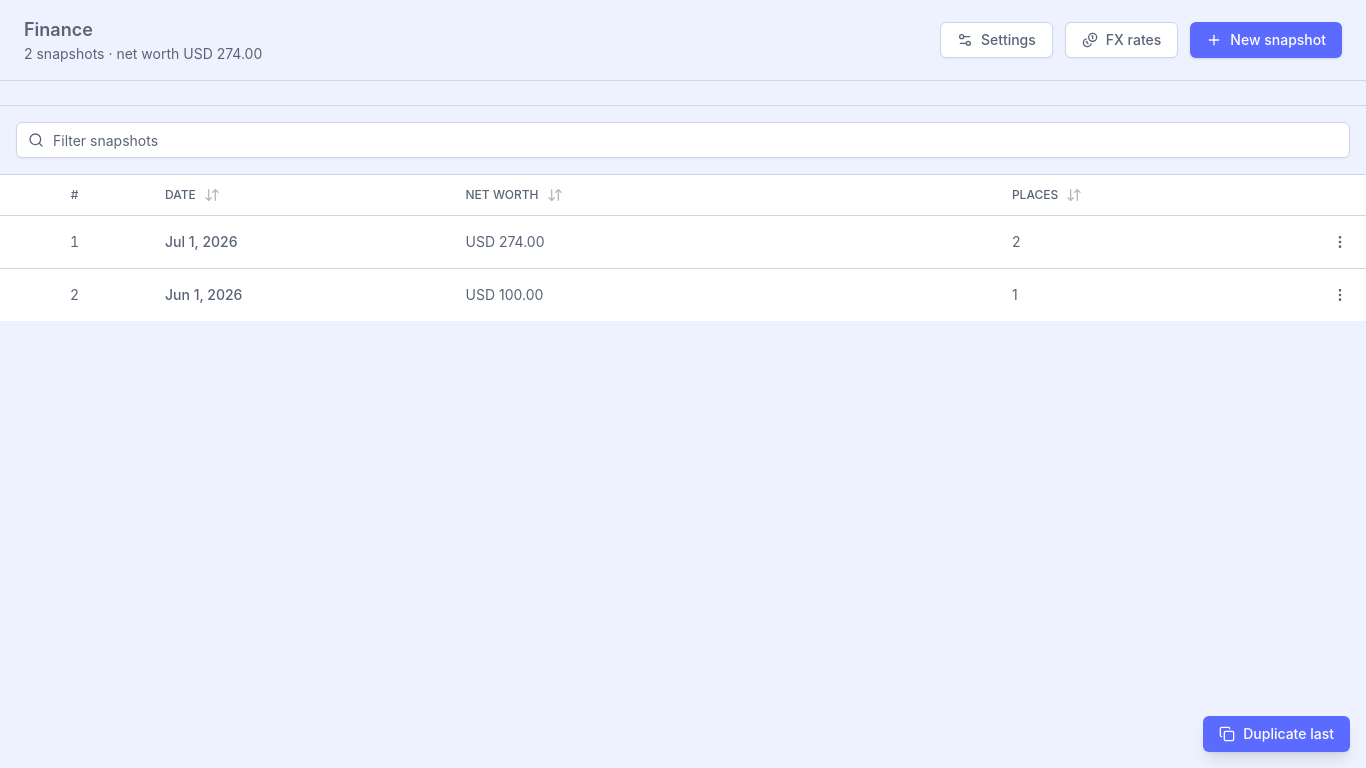
it: FinanceListView › adds, removes, and re-seeds entry rows and defaults date to today
Click the button "New snapshot" at (1266, 40), box [1190,22,1342,58]
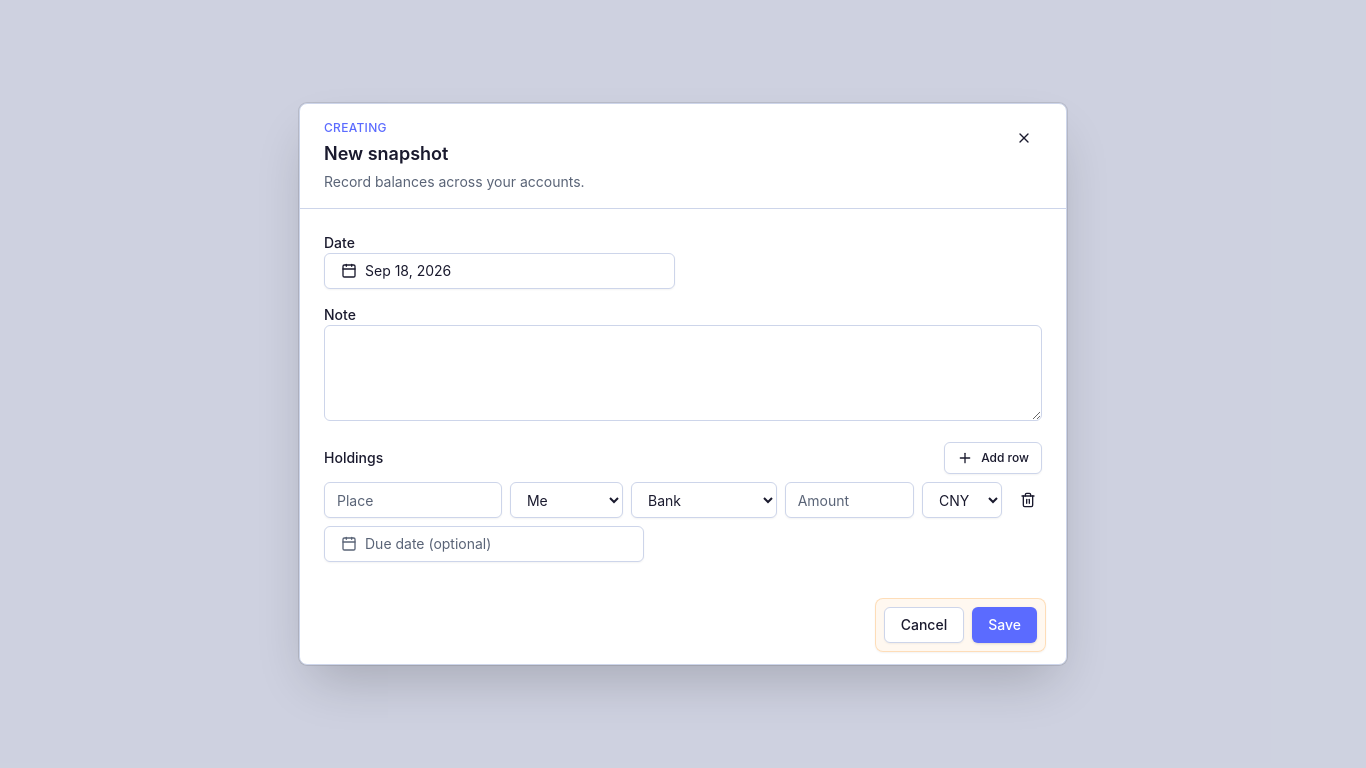
Click the button "Add row" at (993, 458), box [944,442,1042,474]
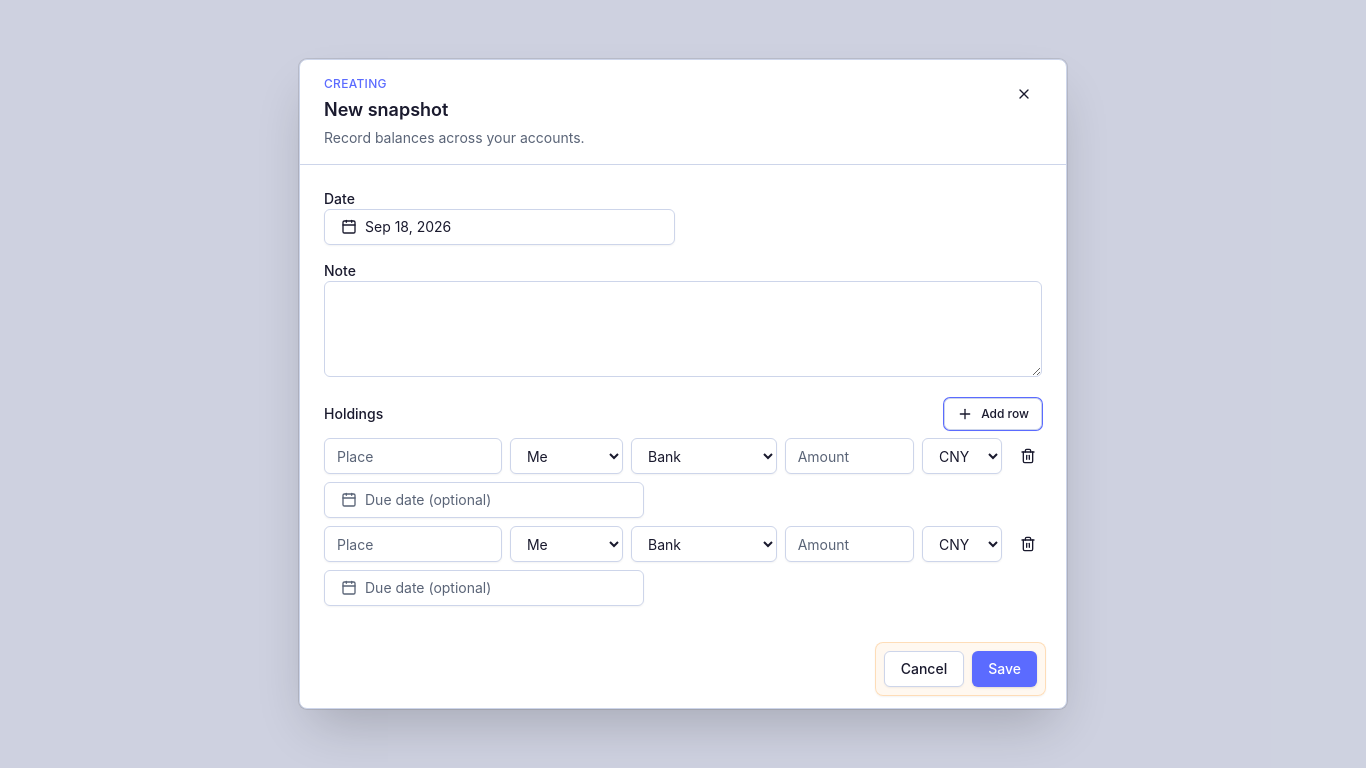
Expected: the field named "Entry 2 place" is shown, [324,526,502,562]
Click the button named "remove entry 2" at (1028, 544), box [1010,526,1046,562]
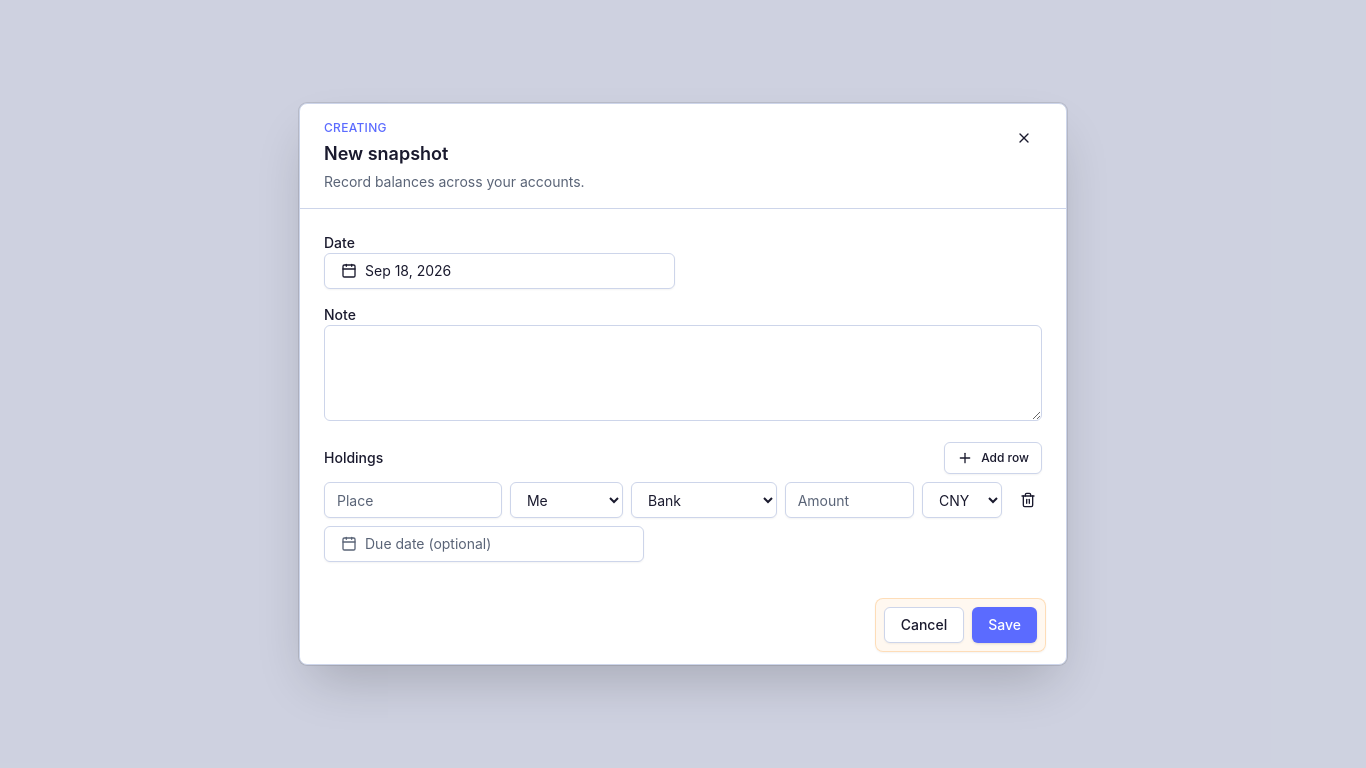
// Removing the last row re-seeds a single blank row.
Click the button named "remove entry 1" at (1028, 500), box [1010,482,1046,518]
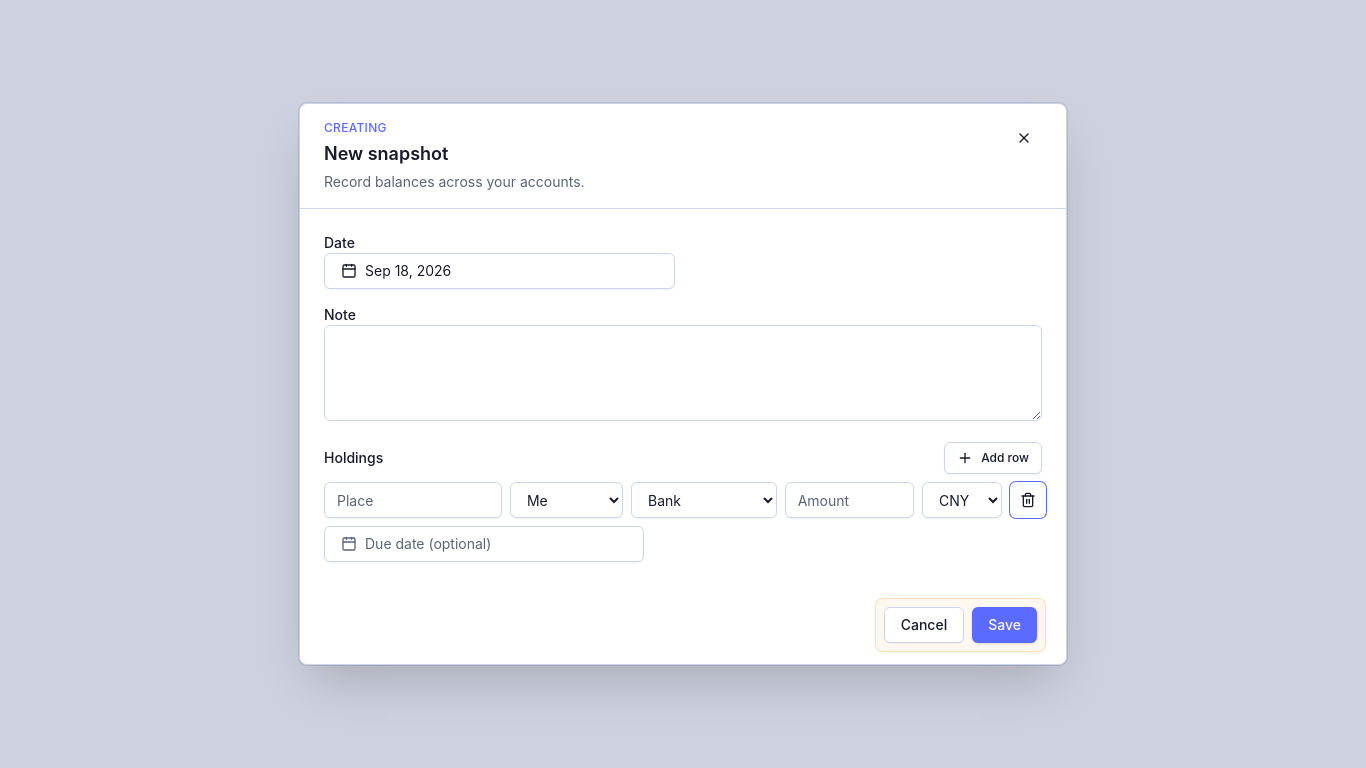
Expected: the field named "Entry 1 place" is shown, [324,482,502,518]
Click the button "Cancel" at (924, 625), box [884,607,964,643]
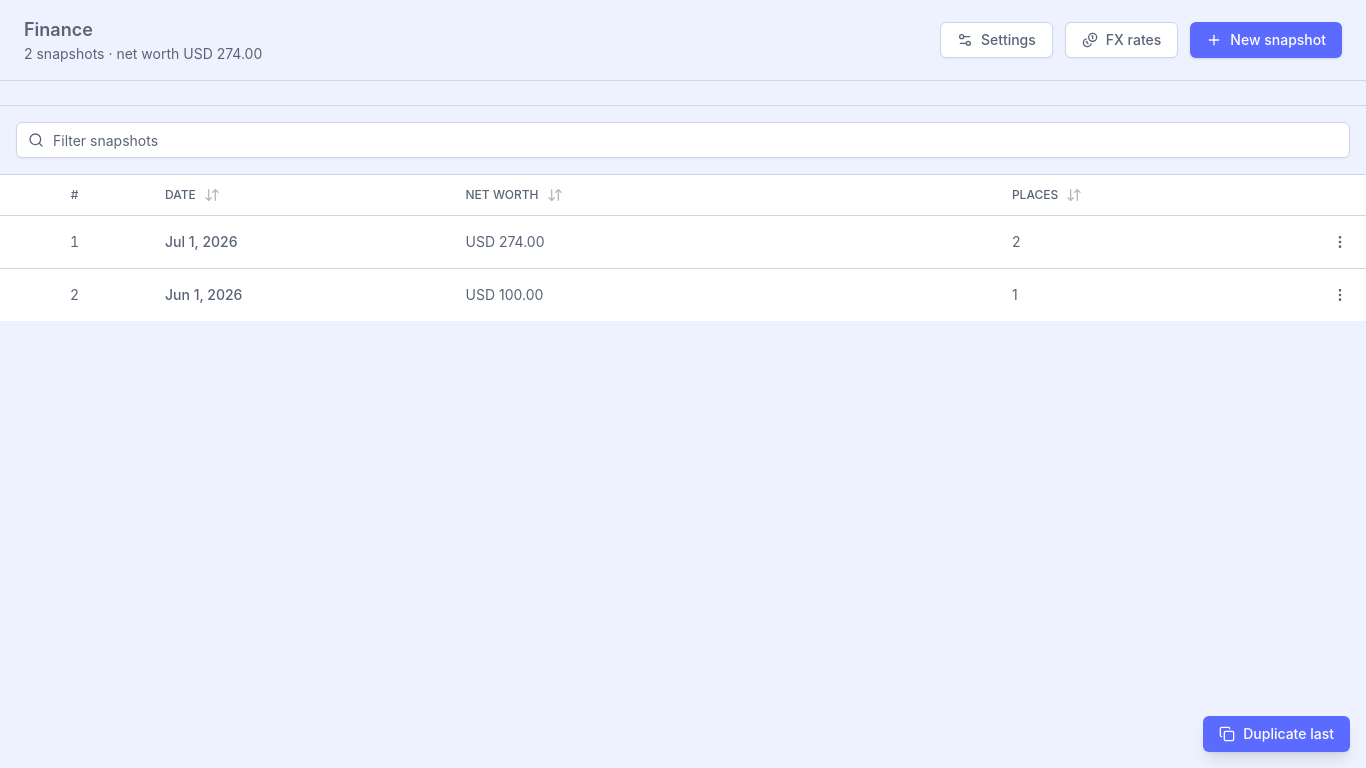
Expected: the heading "Finance" is shown, [24,19,93,40]
